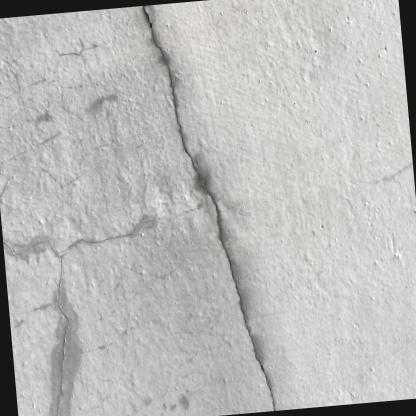crack: (142, 5, 274, 411)
